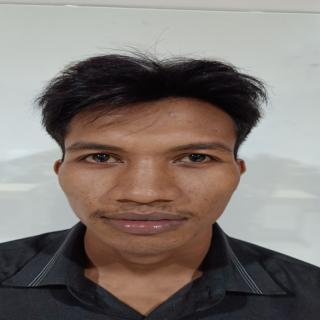Netral: (47, 90, 269, 263)
